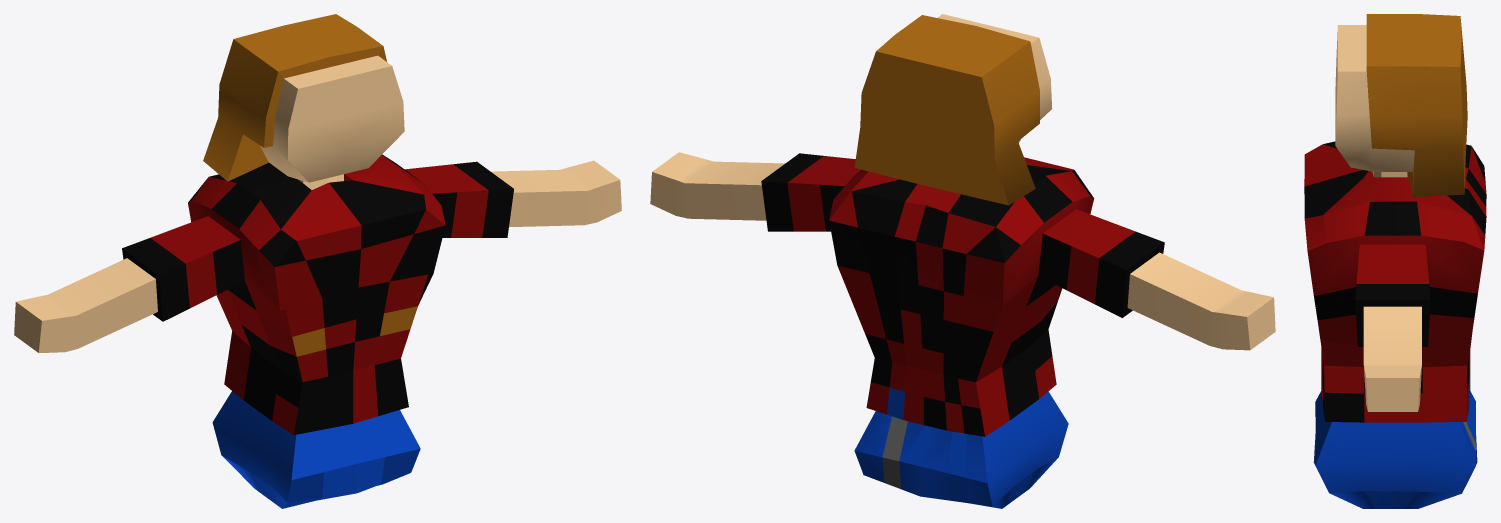
Rendered from CHAR_MaleA.FBX.
The picture shows the model from 3 angles, left to right: view 1: azimuth 30°, elevation 25°; view 2: azimuth 150°, elevation 25°; view 3: azimuth 270°, elevation 25°; orthographic projection. The views are drawn at different scales.
Parts seen in each view (by area): view 1: CHAR_Bucheron; view 2: CHAR_Bucheron; view 3: CHAR_Bucheron.
Part boxes in pixels (left/top/right/bottom): CHAR_Bucheron: left=14, top=14, right=621, bottom=508; CHAR_Bucheron: left=650, top=14, right=1275, bottom=508; CHAR_Bucheron: left=1304, top=14, right=1486, bottom=508.
Size of the model in its own units: 41.25 by 29.65 by 10.97.
